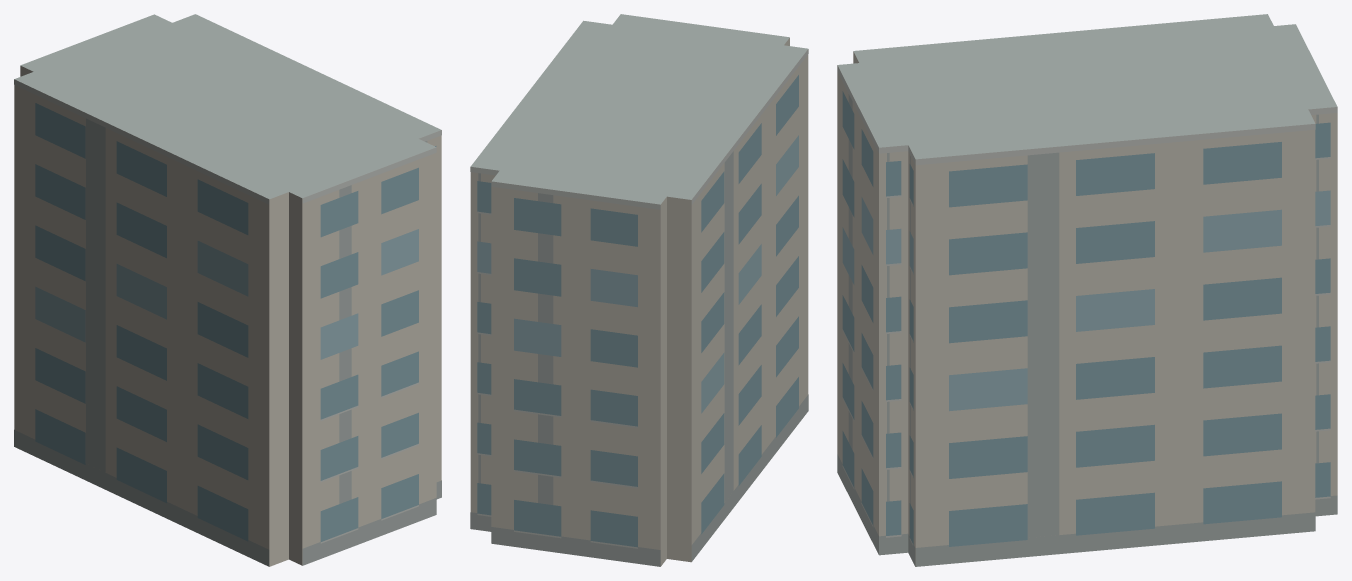
Rendered from survey-upis-32621020.glb.
The picture shows the model from 3 angles, left to right: view 1: azimuth 30°, elevation 25°; view 2: azimuth 150°, elevation 25°; view 3: azimuth 270°, elevation 25°; orthographic projection. The views are drawn at different scales.
Visible parts, largest first — view 1: survey-upis-32621020.tmp; view 2: survey-upis-32621020.tmp; view 3: survey-upis-32621020.tmp.
Boxes of the visible parts, <box> form: survey-upis-32621020.tmp: <box>14,14,441,566</box>; survey-upis-32621020.tmp: <box>470,14,808,566</box>; survey-upis-32621020.tmp: <box>837,14,1337,566</box>.
Size of the model in its own units: 12.71 by 16.6 by 18.48.
